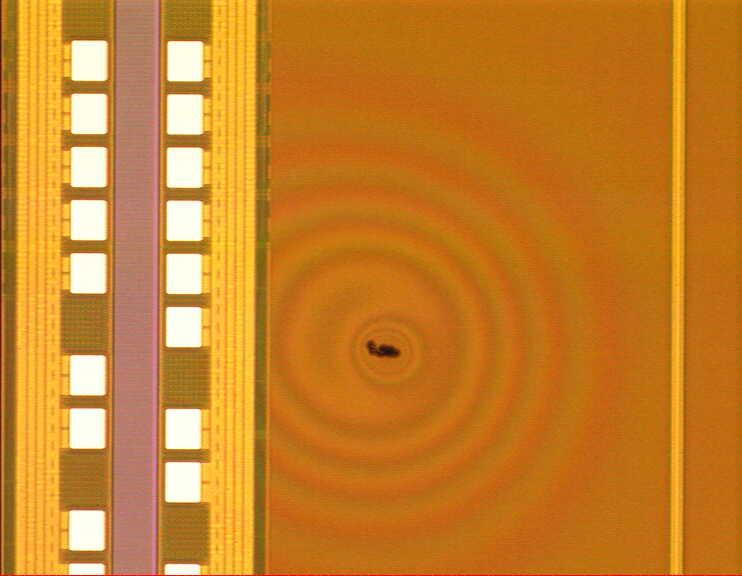PIQ PARTICLE: (364, 330, 404, 370)
